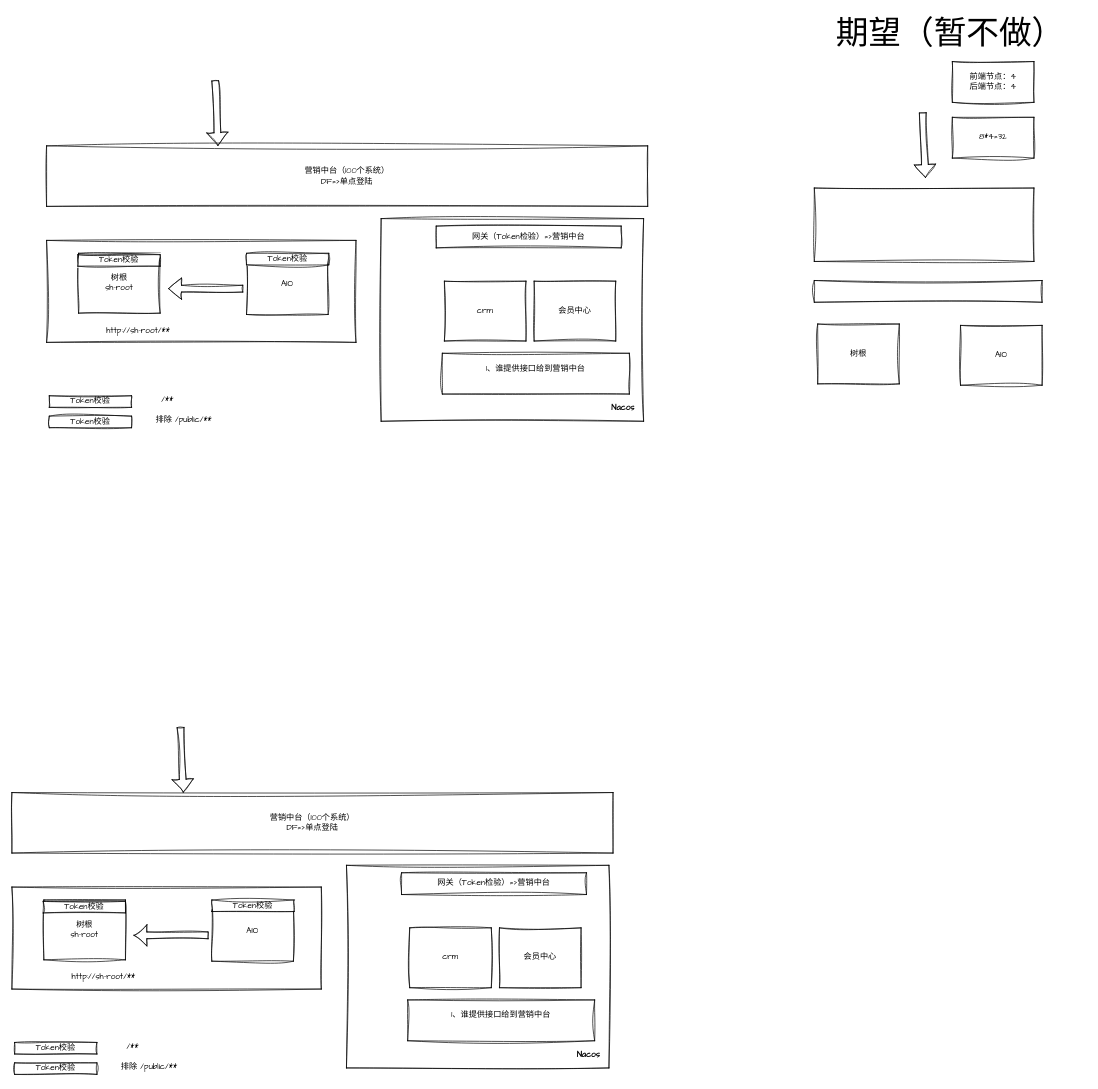
Image size: 1098x1089. Some labels were removed from this diagram. The shapes that lost their labels are listed below. From the top down, each one's centre as x and y in pixels, then its label:
At pixel 924 224: "DD平台".
At pixel 928 291: "网关（Token检验） =>DF".
